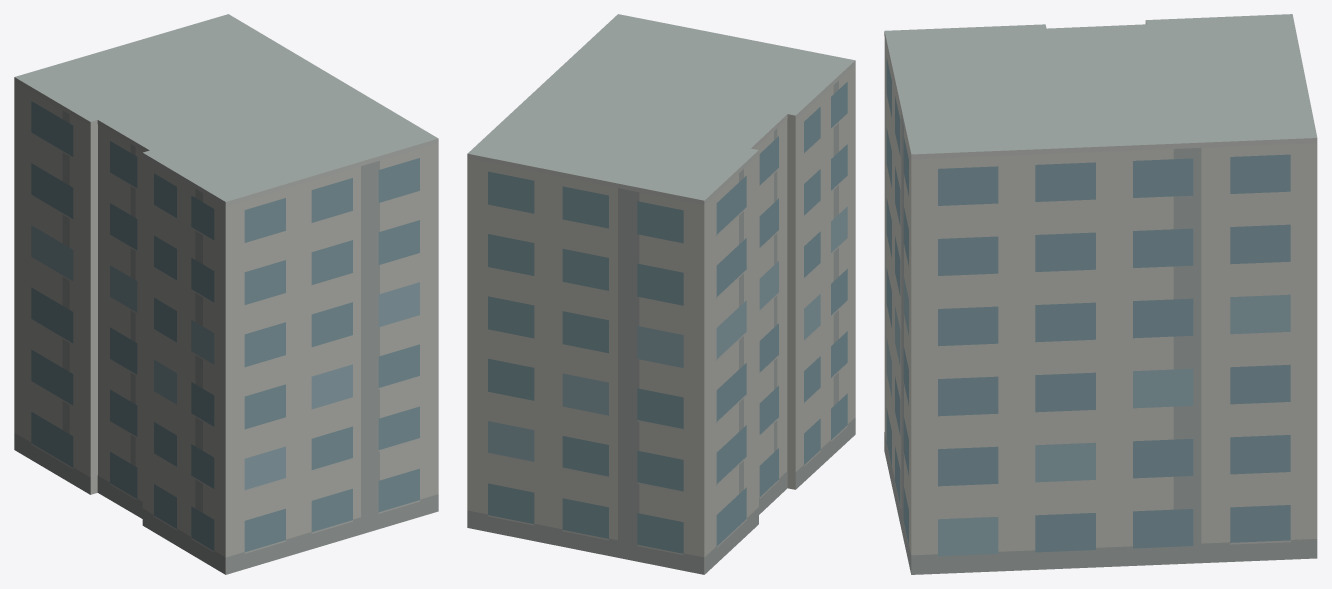
Rendered from survey-upis-32728535.glb.
3 renders of one model, left to right at view 1: azimuth 30°, elevation 25°; view 2: azimuth 150°, elevation 25°; view 3: azimuth 270°, elevation 25°, orthographic. The views are drawn at different scales.
Parts seen in each view (by area): view 1: survey-upis-32728535.tmp; view 2: survey-upis-32728535.tmp; view 3: survey-upis-32728535.tmp.
Part boxes in pixels (<box>): survey-upis-32728535.tmp: <box>14,14,438,574</box>; survey-upis-32728535.tmp: <box>467,14,855,574</box>; survey-upis-32728535.tmp: <box>884,14,1317,574</box>.
Size of the model in its own units: 14.26 by 19.9 by 18.58.
